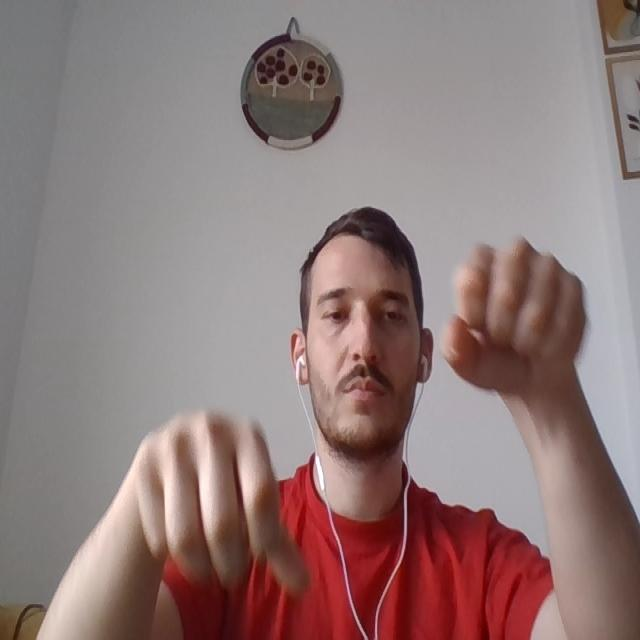yes: (458, 249, 579, 381)
